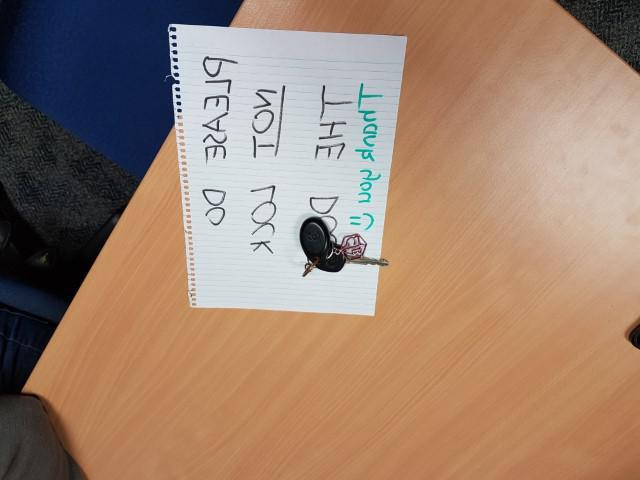key: (315, 246, 391, 270)
